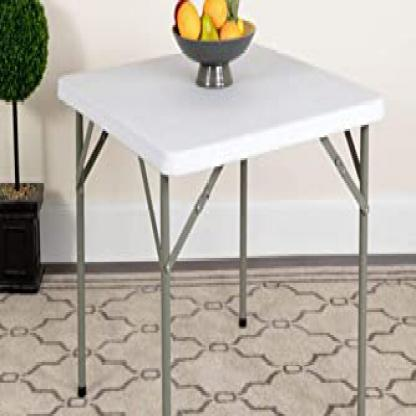table: (52, 19, 390, 414)
